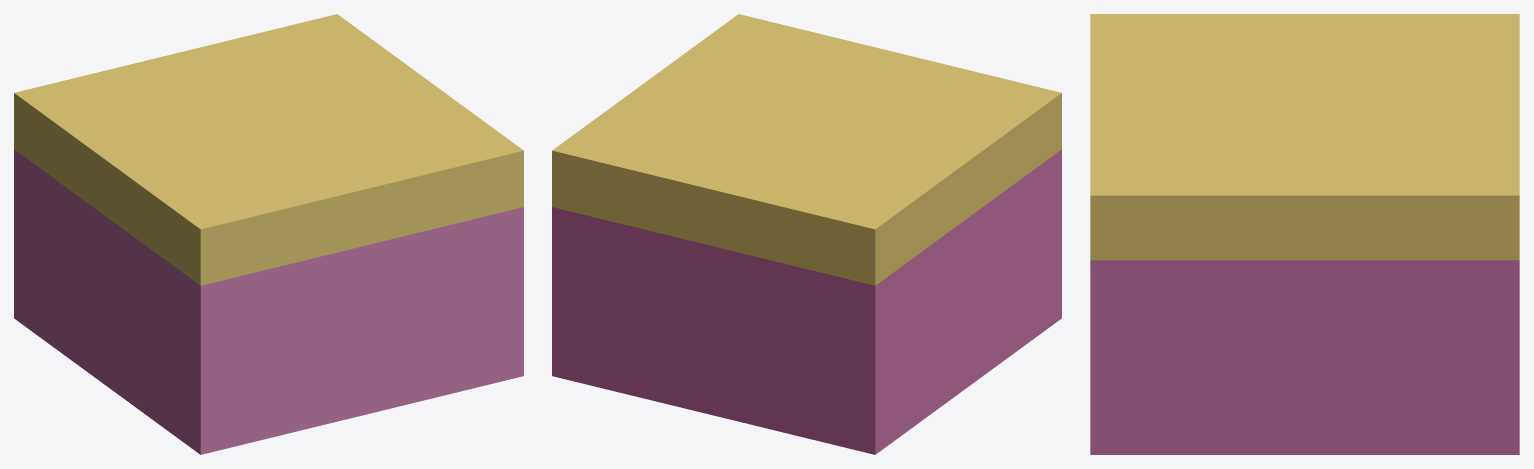
The model's file is squidgame_props_platform1_pink.fbx.
3 views of the same model, side by side, from view 1: azimuth 30°, elevation 25°; view 2: azimuth 150°, elevation 25°; view 3: azimuth 270°, elevation 25° (orthographic). The views are drawn at different scales.
Visible parts, largest first — view 1: squidgame_props_platform1_pink; view 2: squidgame_props_platform1_pink; view 3: squidgame_props_platform1_pink.
Boxes of the visible parts, x1=… form: squidgame_props_platform1_pink: x1=14, y1=14, x2=523, y2=454; squidgame_props_platform1_pink: x1=552, y1=14, x2=1061, y2=454; squidgame_props_platform1_pink: x1=1090, y1=14, x2=1519, y2=454.
Size of the model in its own units: 1.5 by 1 by 1.5.
